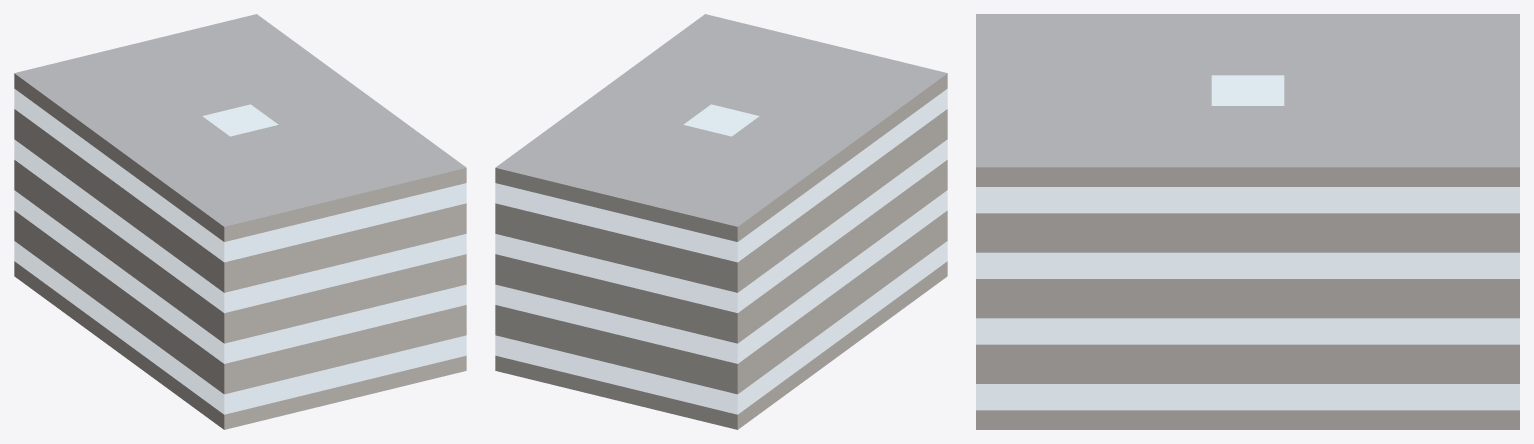
3 renders of one model, left to right at view 1: azimuth 30°, elevation 25°; view 2: azimuth 150°, elevation 25°; view 3: azimuth 270°, elevation 25°, orthographic. The views are drawn at different scales.
Visible parts, largest first — view 1: Dinding Bata, Atap Beton, Kaca Jendela, Kaca Skylight; view 2: Dinding Bata, Atap Beton, Kaca Jendela, Kaca Skylight; view 3: Dinding Bata, Atap Beton, Kaca Jendela, Kaca Skylight.
Part boxes in pixels (left/top/right/bottom): Dinding Bata: left=14, top=73, right=466, bottom=429; Atap Beton: left=14, top=14, right=466, bottom=226; Kaca Jendela: left=14, top=89, right=466, bottom=414; Kaca Skylight: left=203, top=104, right=277, bottom=136; Dinding Bata: left=495, top=73, right=947, bottom=429; Atap Beton: left=495, top=14, right=947, bottom=226; Kaca Jendela: left=495, top=89, right=947, bottom=414; Kaca Skylight: left=684, top=104, right=758, bottom=136; Dinding Bata: left=976, top=167, right=1519, bottom=429; Atap Beton: left=976, top=14, right=1519, bottom=167; Kaca Jendela: left=976, top=187, right=1519, bottom=409; Kaca Skylight: left=1212, top=75, right=1283, bottom=105.
Bounding box in the file's own units: 20 × 16 × 30.
